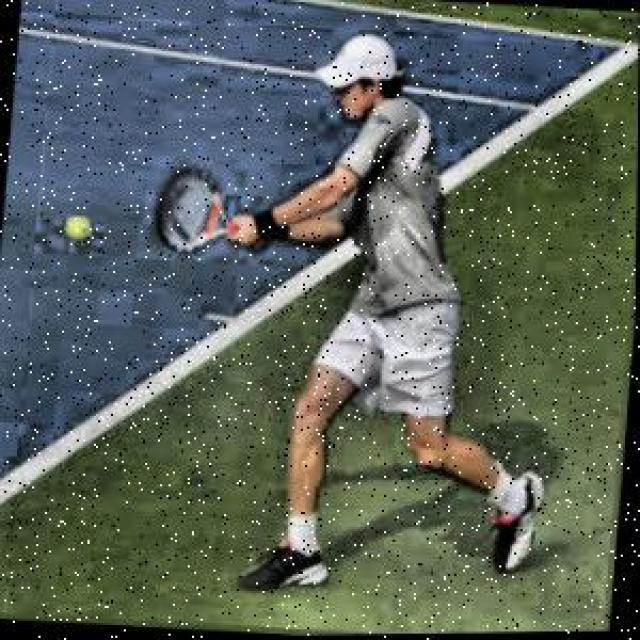tennis-ball: (61, 218, 93, 252)
